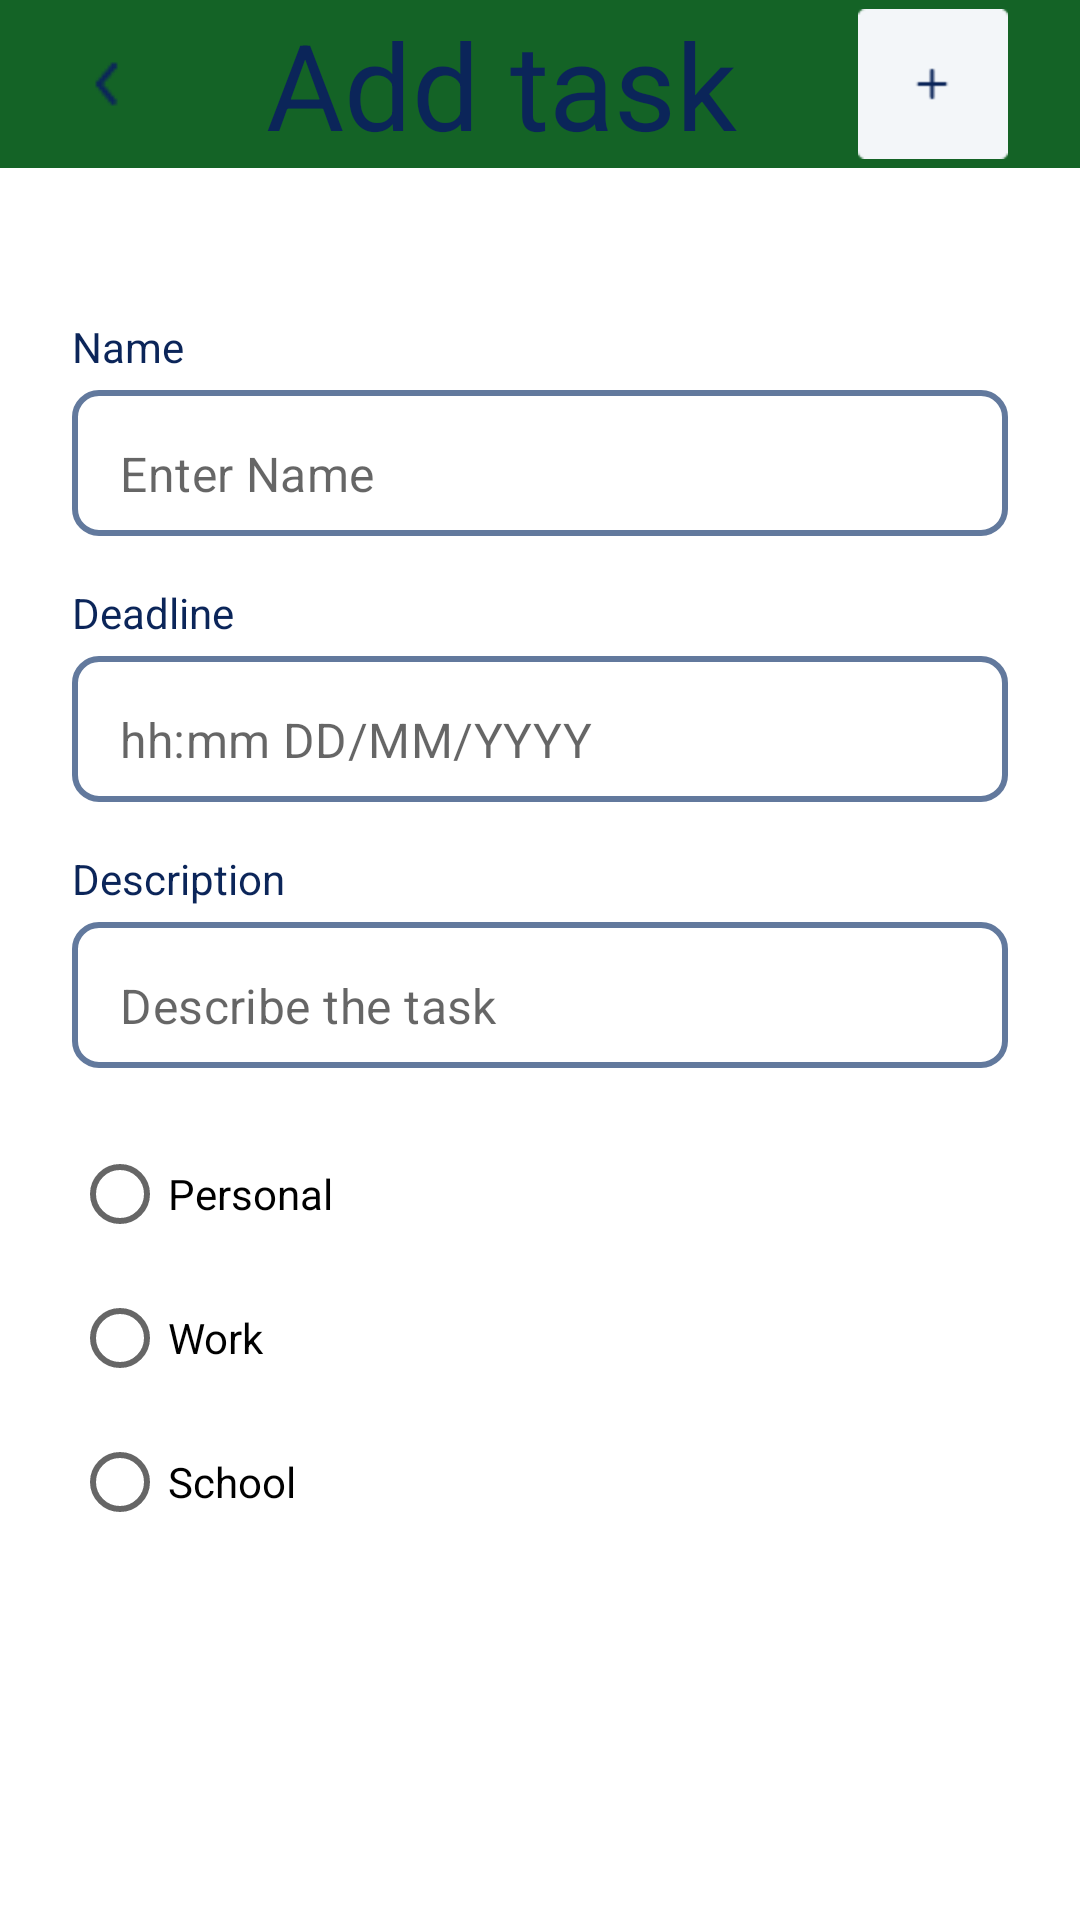

Icon click points for this 1080x1920 phone screenshot, format [x,y]:
arrow left: [106,84]
frame plus center: [933,84]
